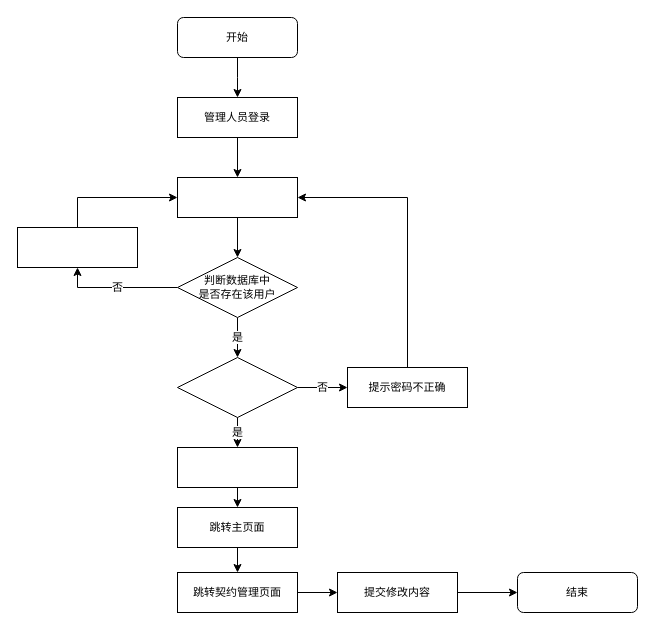
Image size: 655x630. Some labels were removed from this diagram. The box of each missing label's shape, as (x1, y1, x2, y2) in pixels:
判断密码是否正确: (176, 356, 298, 418)
填写登录信息: (176, 176, 298, 218)
将token添加到header供拦截器识别: (176, 446, 298, 488)
提醒用户不存在: (16, 226, 138, 268)
